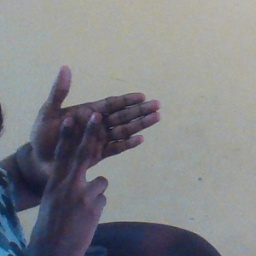N: (29, 62, 166, 227)
